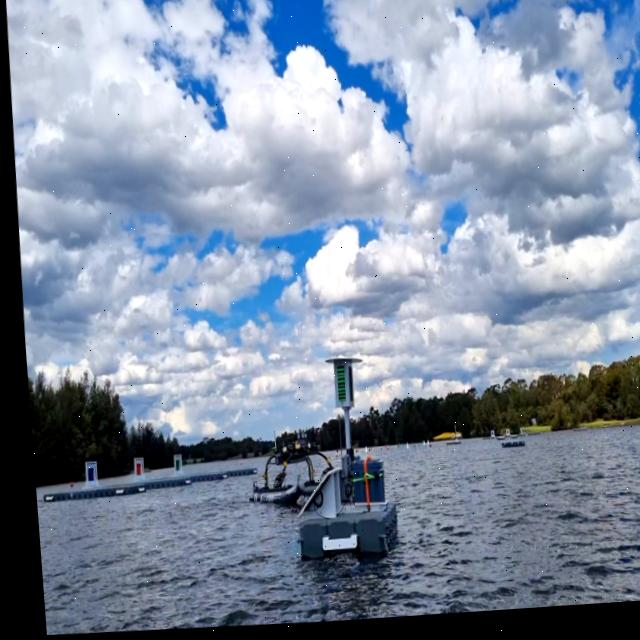led: (327, 368, 342, 410)
